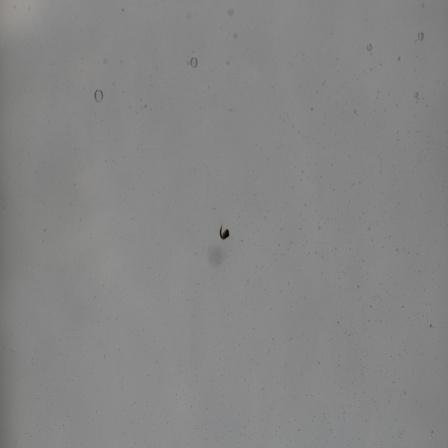Jentik-Nyamuk: (217, 222, 232, 243)
